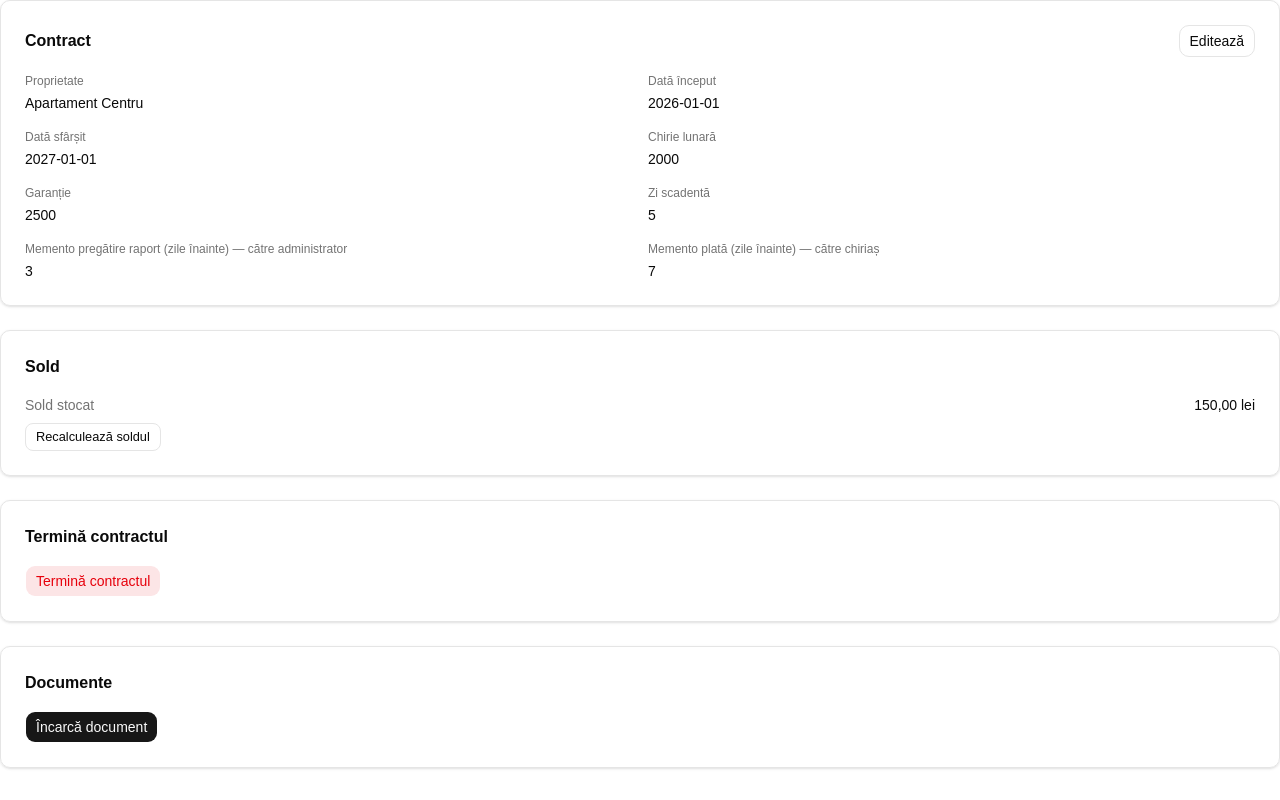
Test: TenancyTab — End Contract (FR-CON-03/05) › states arrears plainly (FR-CON-04, reversed at M8) — termination is no longer blocked
The image size is (1280, 800).
Click the button "Termină contractul": (93, 581) [25,565,161,597]
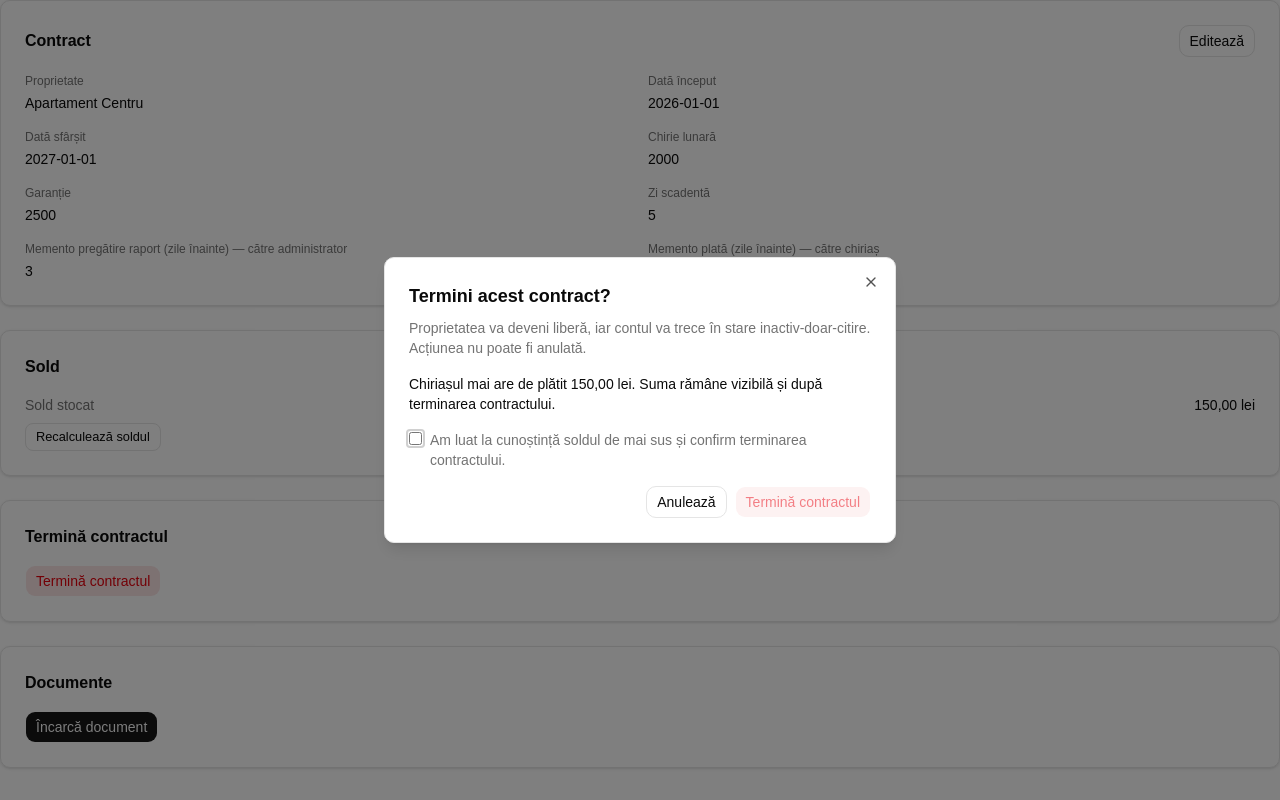
Result: the text "mai are de plătit 150,00 lei" is shown at [409,376,822,412]
